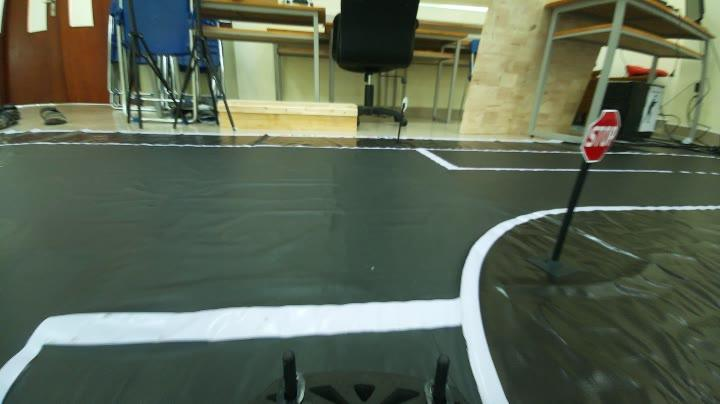stop: (580, 109, 630, 167)
